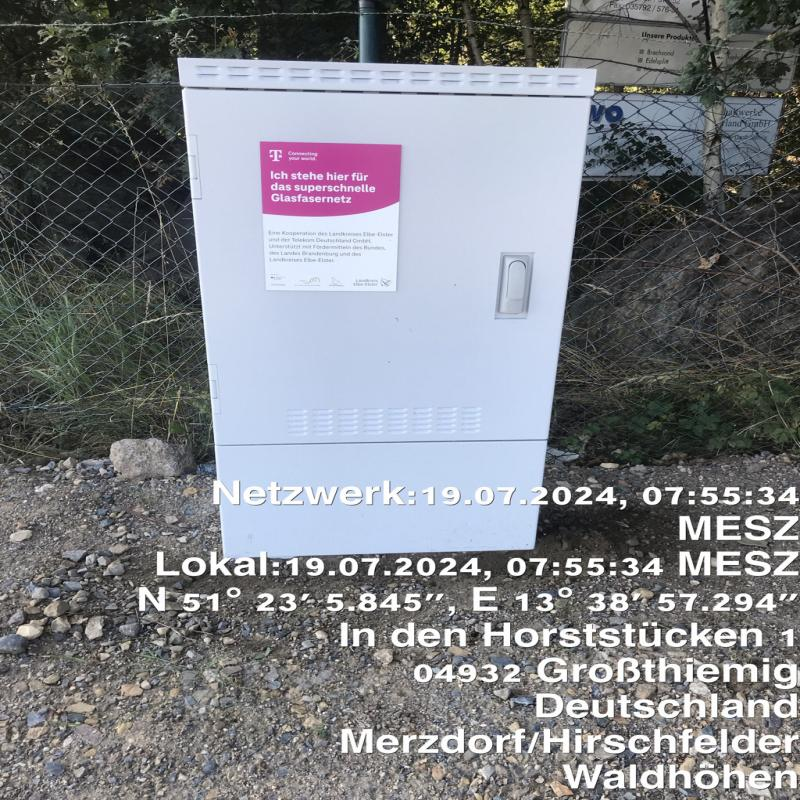NT-Gehause: (180, 59, 599, 481)
Steaker: (256, 139, 399, 290)
